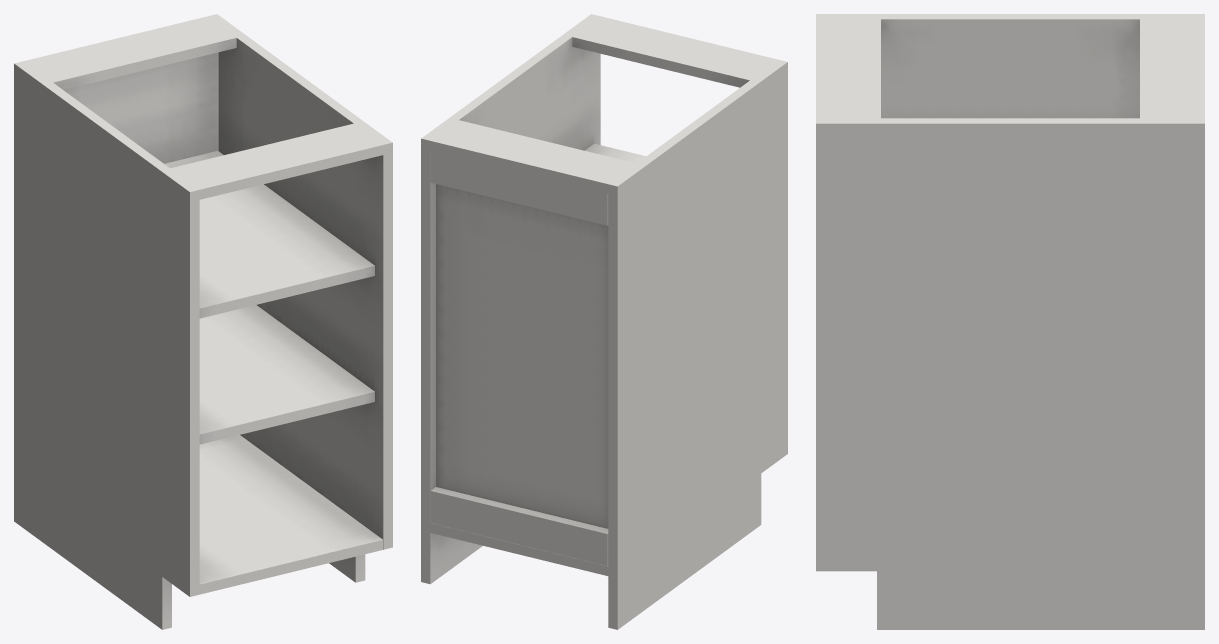
The model's file is 1-door-base-doors-off.glb.
3 views of the same model, side by side, from view 1: azimuth 30°, elevation 25°; view 2: azimuth 150°, elevation 25°; view 3: azimuth 270°, elevation 25° (orthographic). The views are drawn at different scales.
Visible parts, largest first — view 1: part_0; view 2: part_0; view 3: part_0.
Boxes of the visible parts, x1,y1,x2,y2 form: part_0: (14, 14, 392, 629); part_0: (421, 14, 787, 629); part_0: (816, 14, 1204, 629).
Bounding box in the file's own units: 0.4064 × 0.8763 × 0.6096.
1 material, 1 textured.
